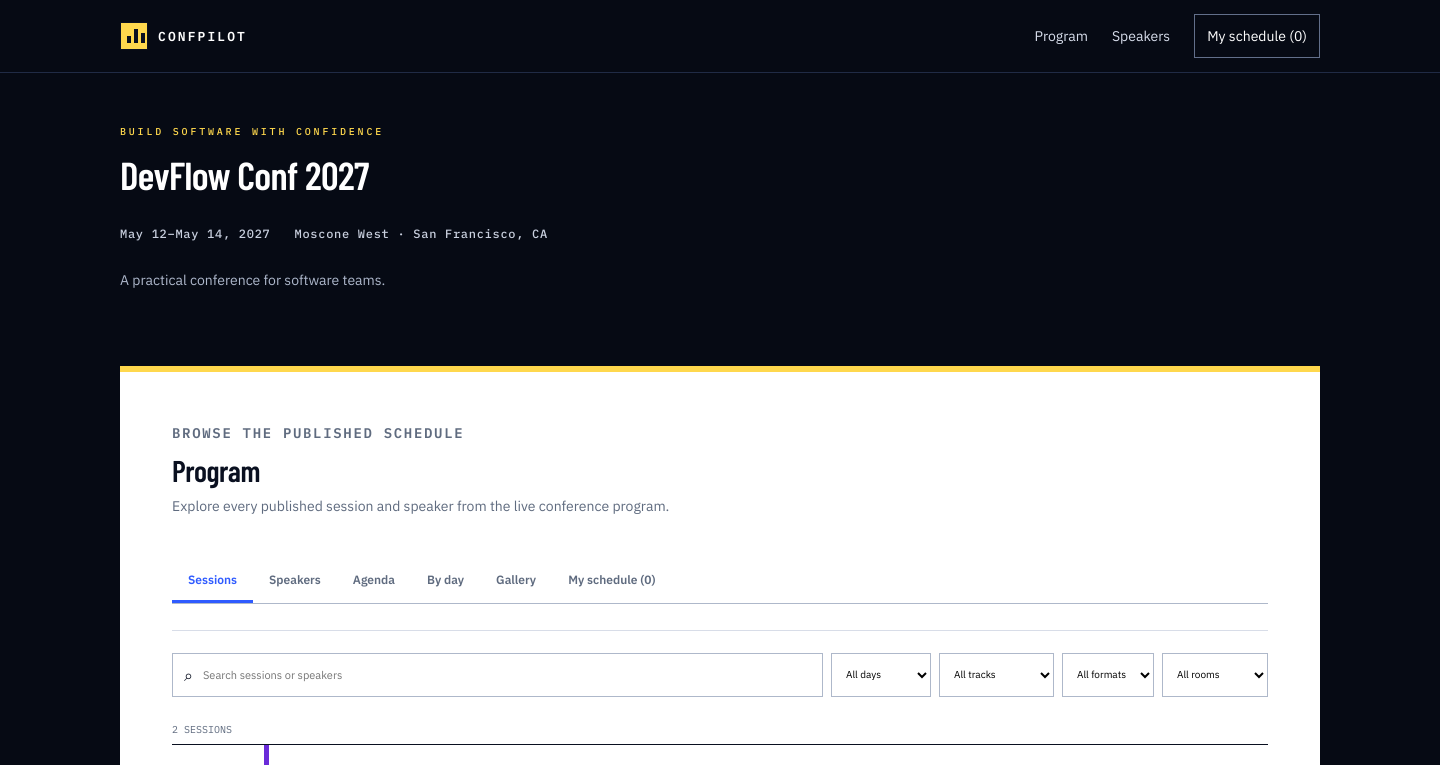
Test: opens the speaker view from the public header navigation
This screenshot has width=1440, height=765.
Click the link "Speakers": (1141, 36) x1=1112 y1=27 x2=1170 y2=45
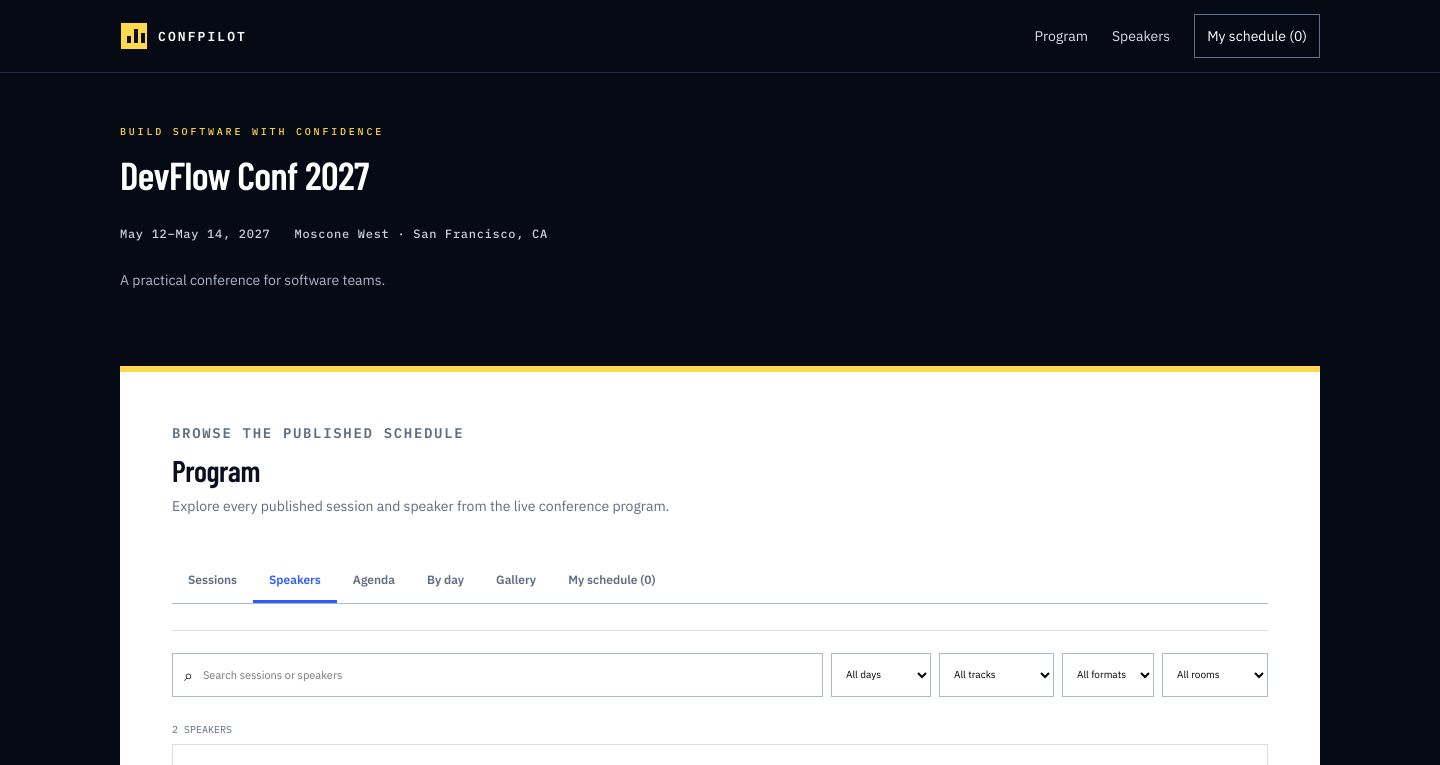
expect the button "Speakers" is pressed: met, box x1=253 y1=558 x2=337 y2=602
Click the link "Program": (1061, 36) x1=1034 y1=27 x2=1088 y2=45
(page scrolled)
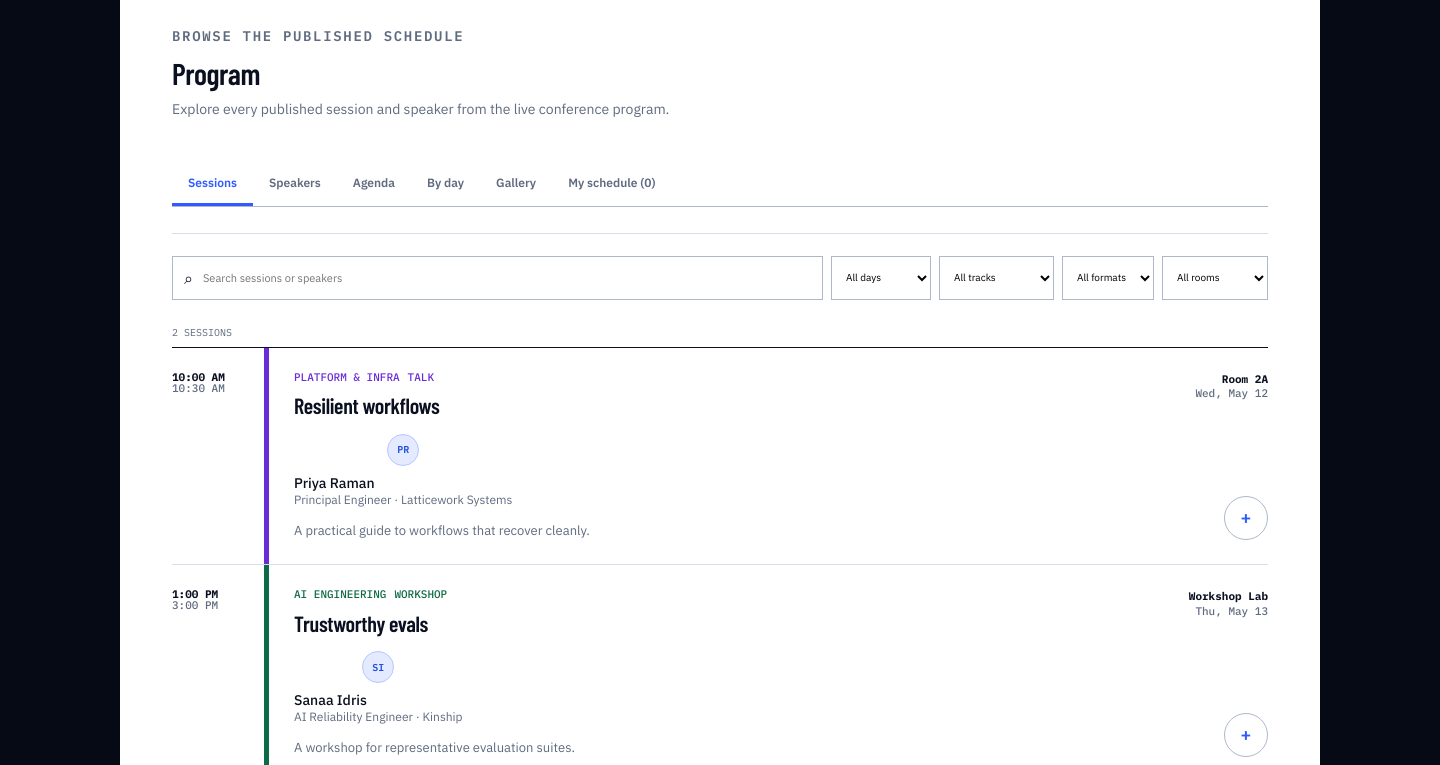
expect the heading "Resilient workflows" is shown: met, box x1=294 y1=392 x2=439 y2=418
